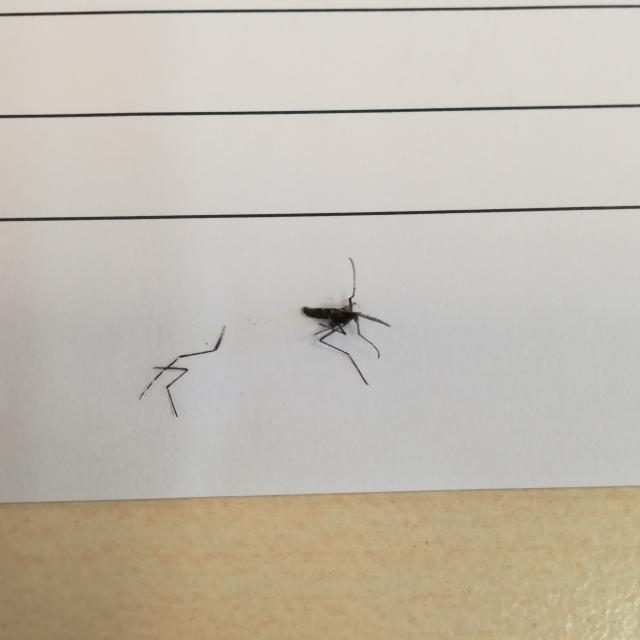albopictus: (291, 252, 395, 384)
